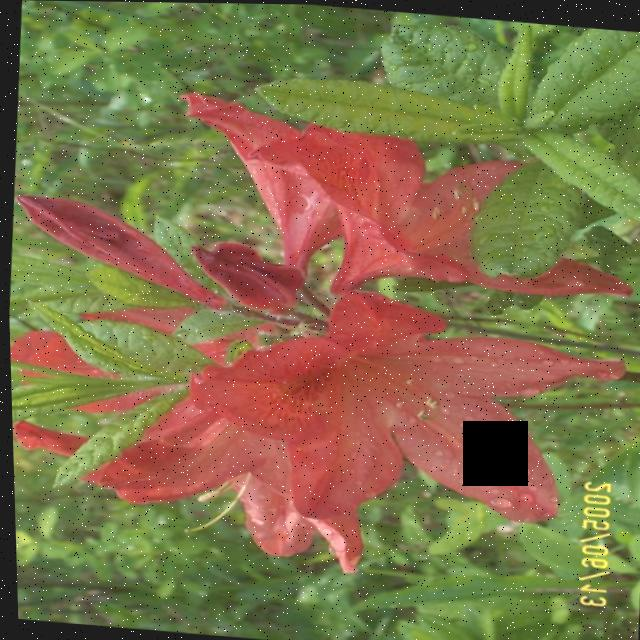azalea: (192, 292, 587, 528), (272, 127, 603, 333)
